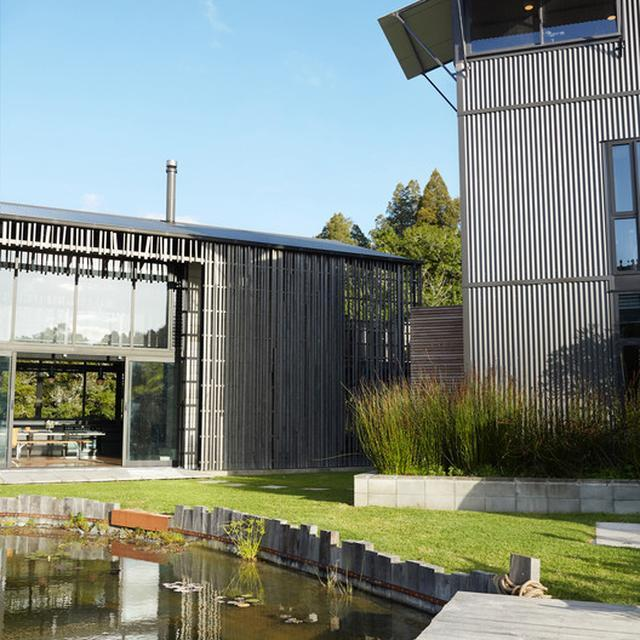building: (0, 196, 419, 489), (376, 0, 640, 432)
